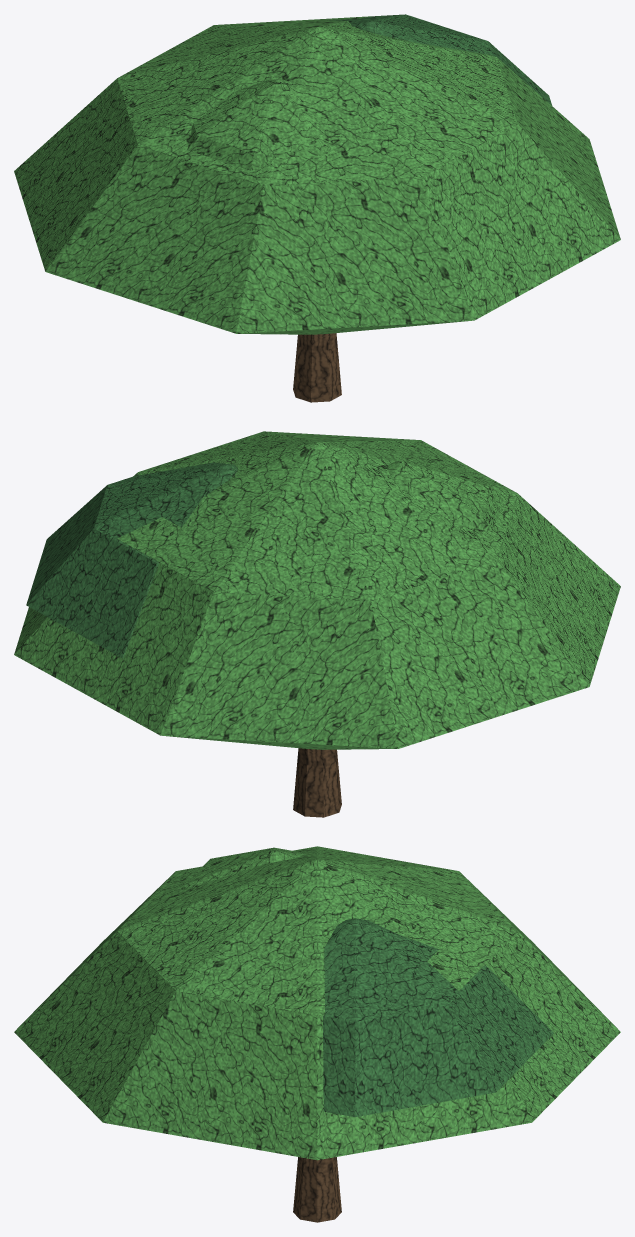
The model's file is hill_tree_c.fbx.
3 renders of one model, top to bottom at view 1: azimuth 30°, elevation 25°; view 2: azimuth 150°, elevation 25°; view 3: azimuth 270°, elevation 25°, orthographic. The views are drawn at different scales.
Parts seen in each view (by area): view 1: hill_tree_c; view 2: hill_tree_c; view 3: hill_tree_c.
Part boxes in pixels (<box>): hill_tree_c: <box>14,14,620,402</box>; hill_tree_c: <box>14,431,620,817</box>; hill_tree_c: <box>14,846,620,1222</box>.
Bounding box in the file's own units: 546 × 350 × 546.
